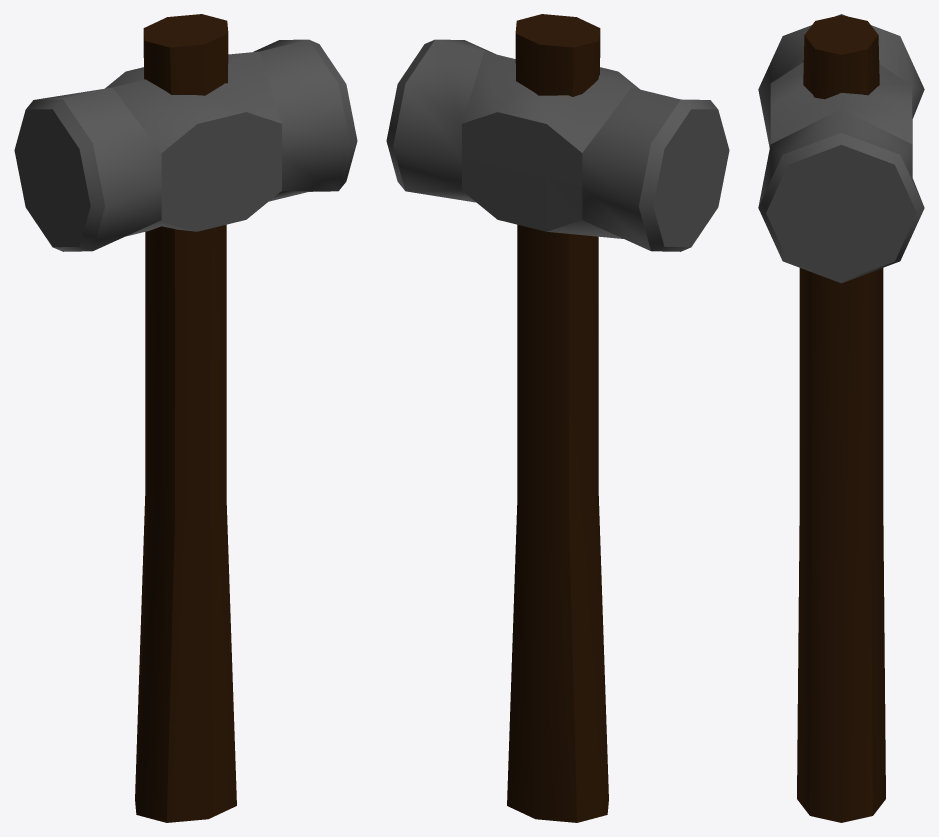
Rendered from Hammer.fbx.
The picture shows the model from 3 angles, left to right: view 1: azimuth 30°, elevation 25°; view 2: azimuth 150°, elevation 25°; view 3: azimuth 270°, elevation 25°; orthographic projection.
Parts seen in each view (by area): view 1: Hammer; view 2: Hammer; view 3: Hammer.
Boxes of the visible parts, x1,y1,x2,y2 form: Hammer: (14, 14, 357, 822); Hammer: (386, 14, 729, 822); Hammer: (758, 14, 924, 822).
Bounding box in the file's own units: 13.33 × 36.84 × 7.27.
